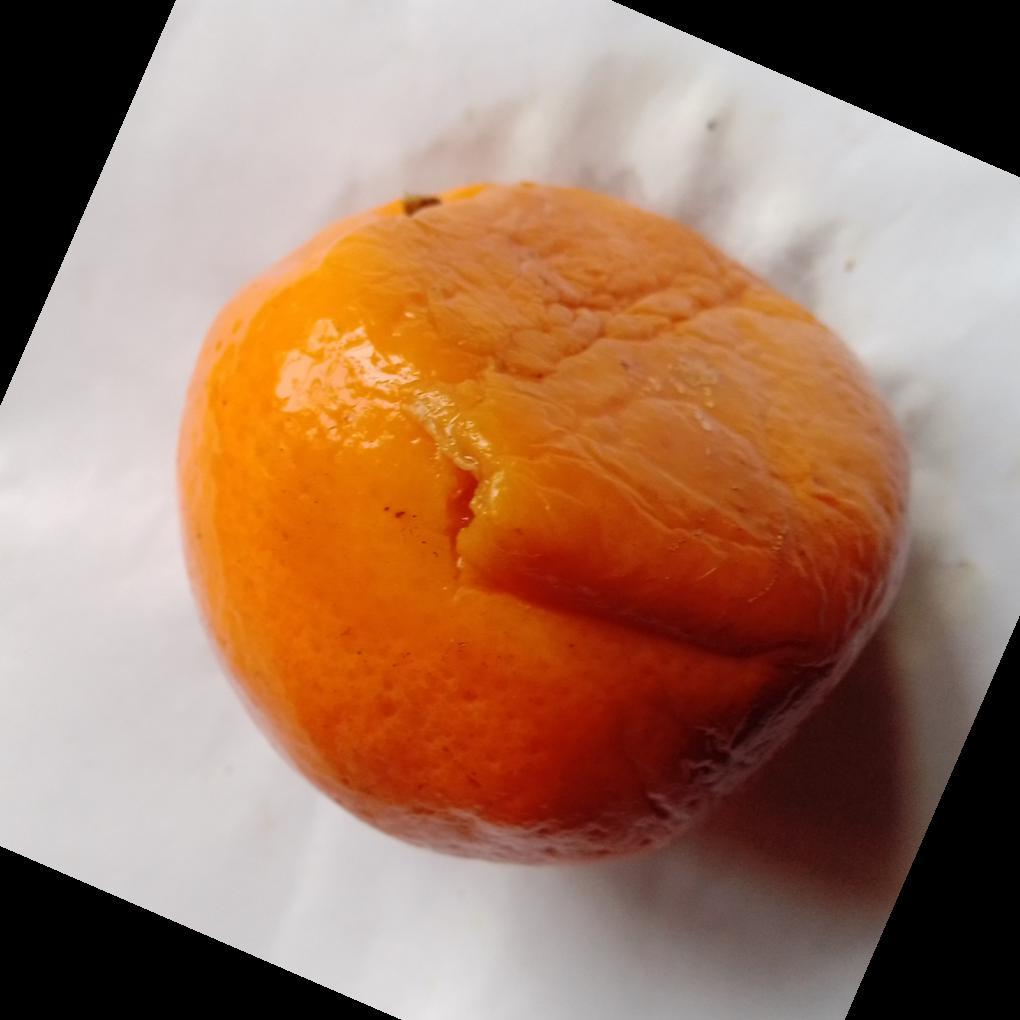FreshOrange: (173, 180, 915, 869)
